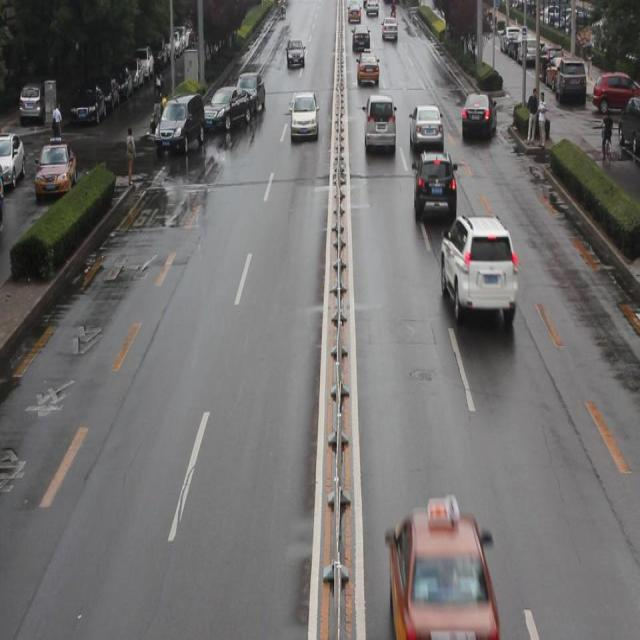car: (385, 501, 492, 630), (438, 212, 513, 326), (412, 149, 454, 221), (200, 85, 252, 132), (408, 104, 443, 154), (462, 91, 496, 138), (289, 92, 317, 140), (232, 75, 264, 115)
truck: (153, 96, 204, 152), (363, 96, 394, 152)
